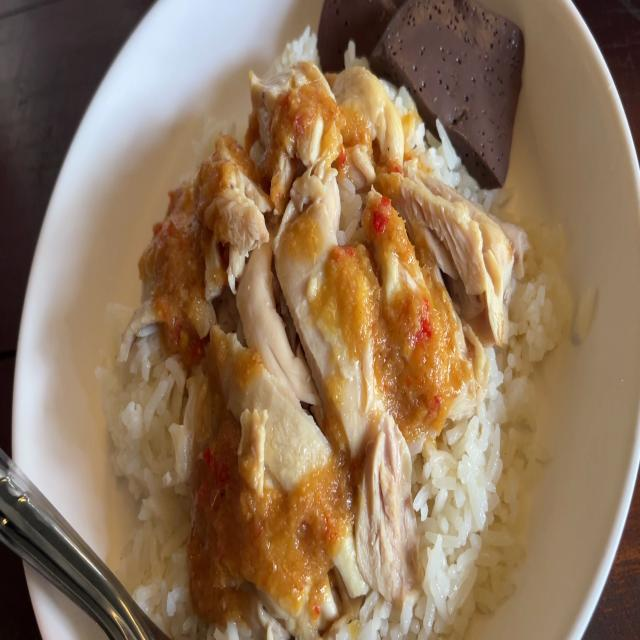boiled_chicken: (166, 58, 445, 546)
boiled_chicken_blood_jelly: (322, 0, 525, 170)
chicken_rice: (106, 0, 580, 640)
